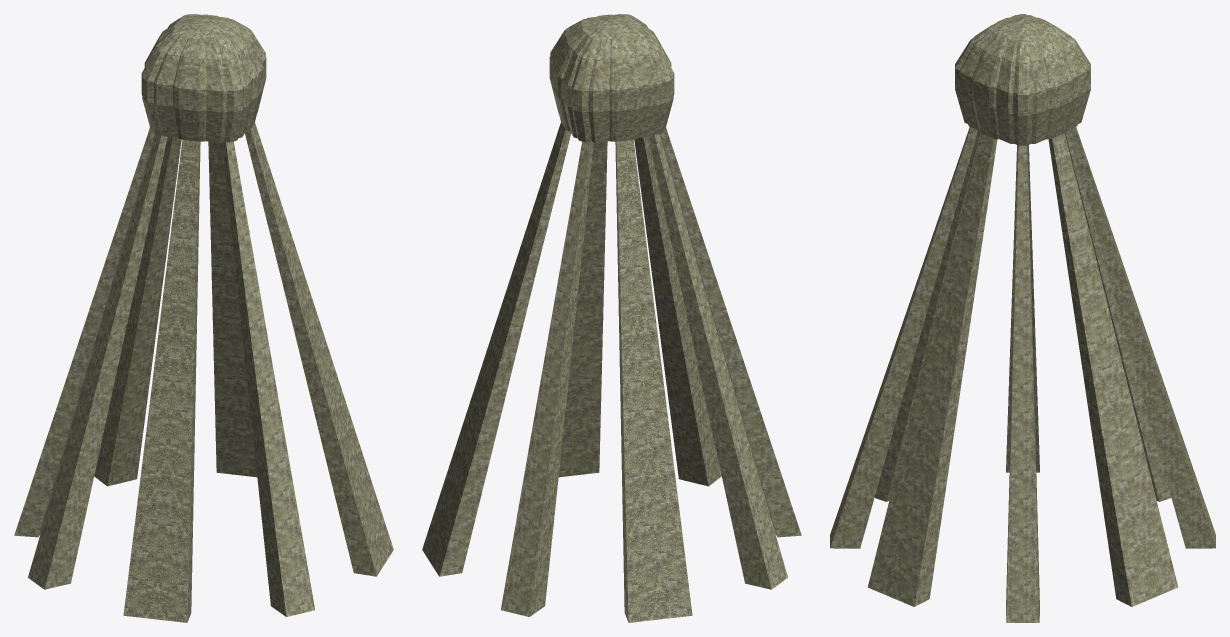
File: Dragonfly_Bowl_Alt.fbx
The picture shows the model from 3 angles, left to right: view 1: azimuth 30°, elevation 25°; view 2: azimuth 150°, elevation 25°; view 3: azimuth 270°, elevation 25°; orthographic projection.
Visible parts, largest first — view 1: Cube.004; view 2: Cube.004; view 3: Cube.004.
Boxes of the visible parts, x1=… form: Cube.004: x1=14, y1=14, x2=393, y2=622; Cube.004: x1=422, y1=14, x2=801, y2=622; Cube.004: x1=830, y1=14, x2=1215, y2=622.
Size of the model in its own units: 166 by 246 by 166.
